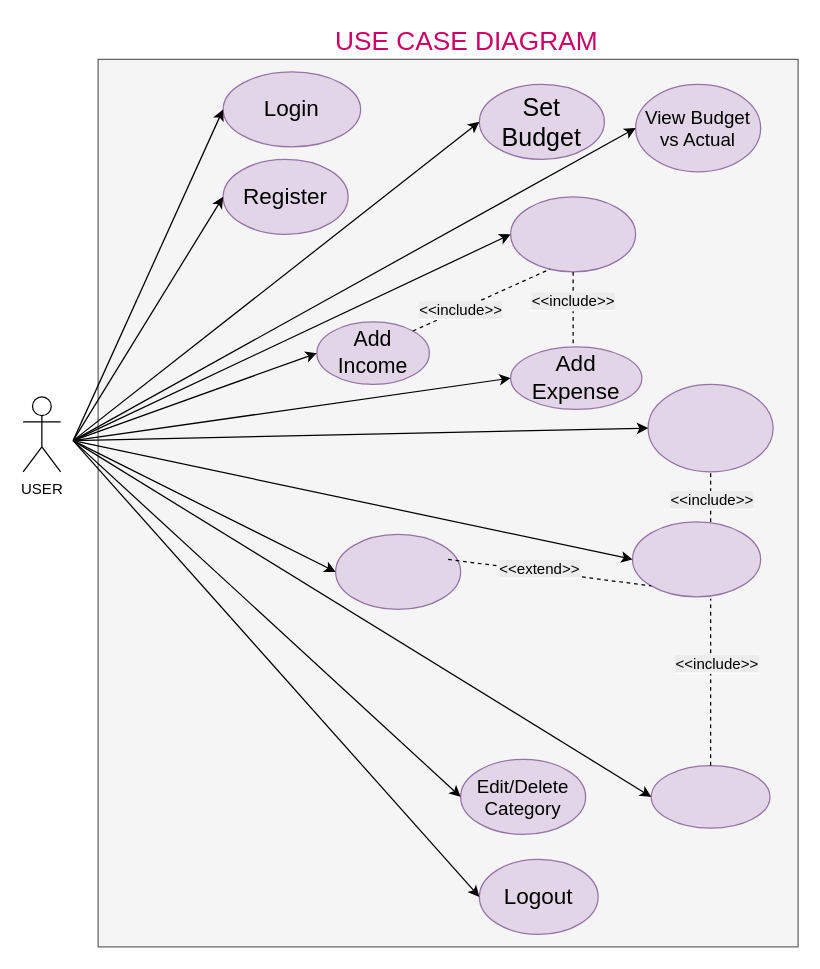
Some shapes in this 820 by 969 pixel diagram are drawn without their labels. Here are the shapes that lost their labels. From the top down, the box of each, then its label:
(509, 196, 636, 272): Add Category
(647, 383, 773, 472): View Expense
(334, 533, 461, 609): Export Report (PDF)
(631, 521, 761, 597): View Reports
(650, 764, 770, 828): View Income
